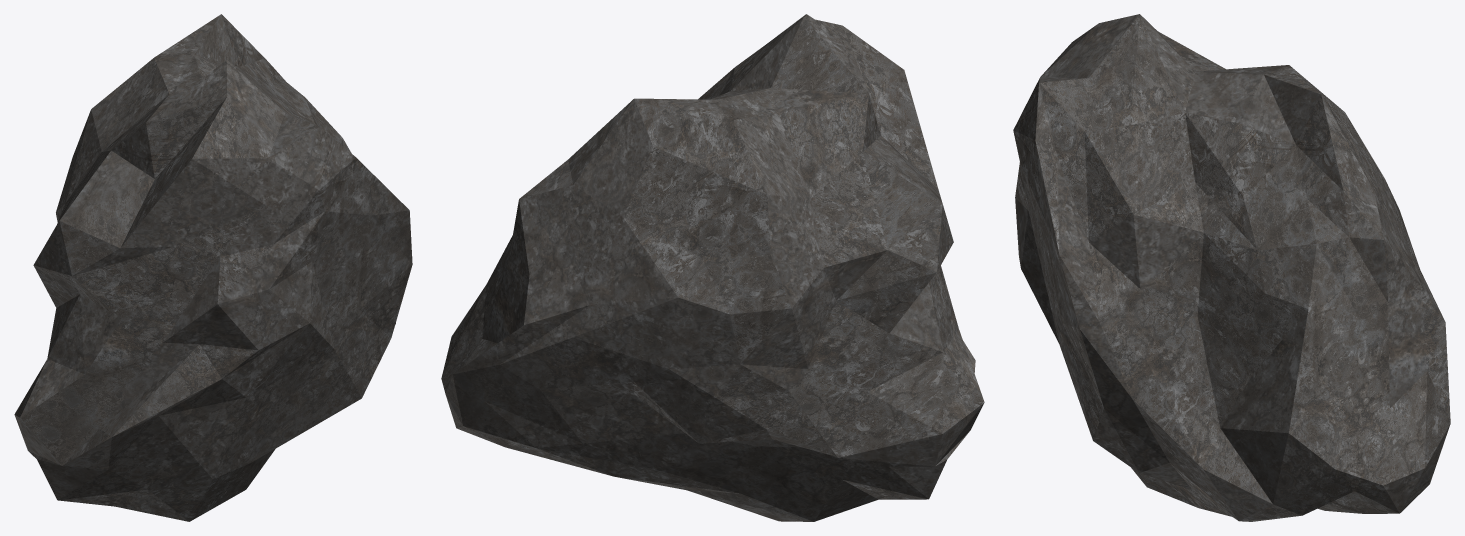
The model's file is SNSS_Lmain_Asteroid003.fbx.
3 views of the same model, side by side, from view 1: azimuth 30°, elevation 25°; view 2: azimuth 150°, elevation 25°; view 3: azimuth 270°, elevation 25° (orthographic). The views are drawn at different scales.
Visible parts, largest first — view 1: Asteriod_03; view 2: Asteriod_03; view 3: Asteriod_03.
Boxes of the visible parts, left/top/right/bottom form: Asteriod_03: left=14, top=14, right=412, bottom=521; Asteriod_03: left=441, top=14, right=984, bottom=521; Asteriod_03: left=1013, top=14, right=1450, bottom=521.
Size of the model in its own units: 770 by 778 by 621.
